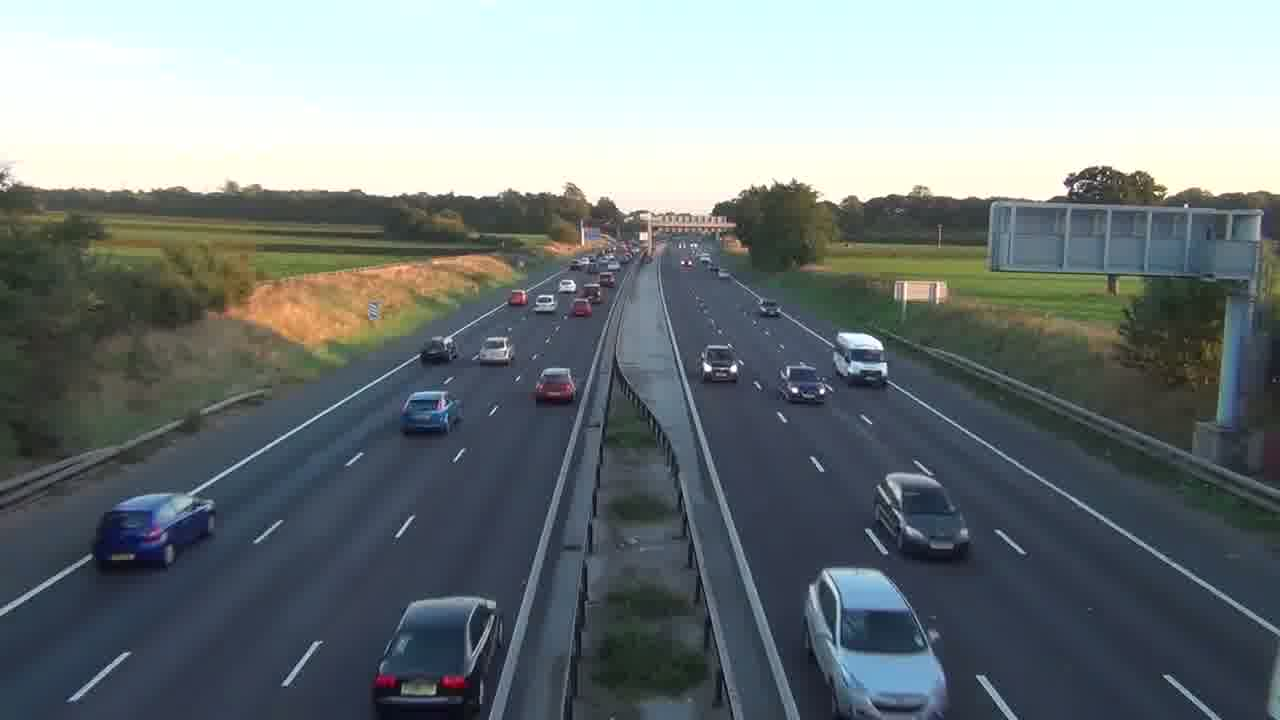car: (802, 566, 947, 718), (370, 594, 499, 718), (872, 460, 971, 561), (92, 492, 217, 570), (399, 389, 460, 435), (777, 361, 834, 404), (699, 343, 744, 384), (533, 367, 577, 405)
truck: (831, 330, 888, 387)
